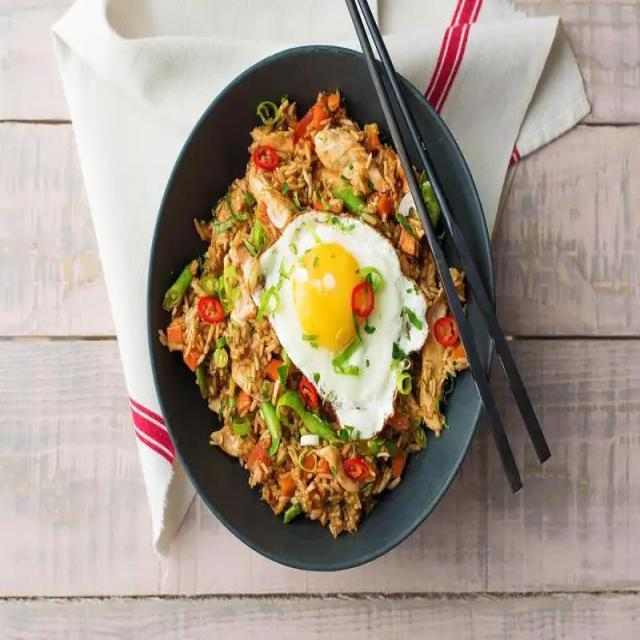Nasi Goreng: (158, 86, 468, 538)
